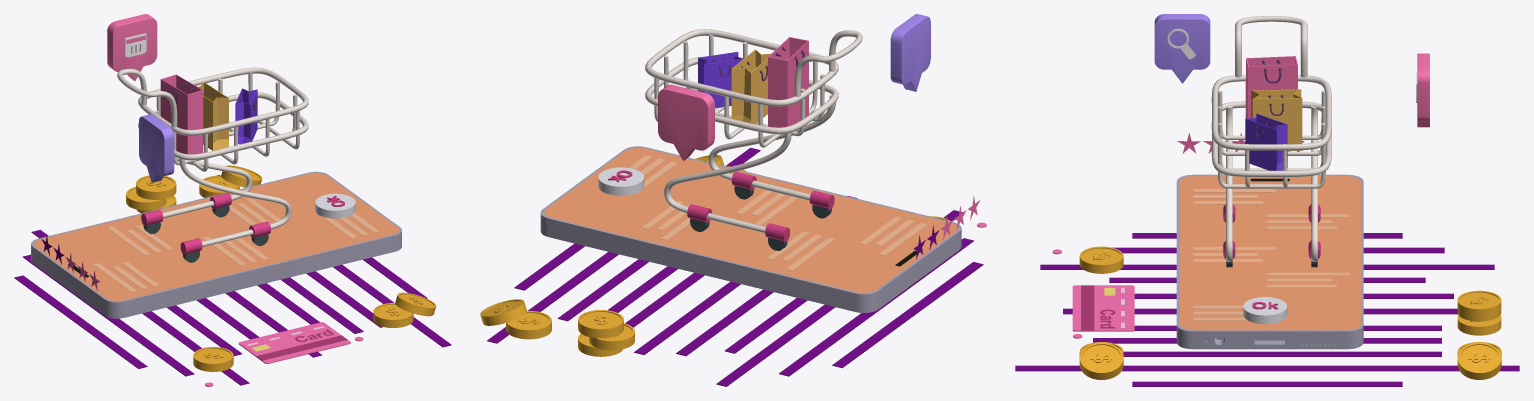
File: shopping.glb
3 views of the same model, side by side, from view 1: azimuth 30°, elevation 25°; view 2: azimuth 150°, elevation 25°; view 3: azimuth 270°, elevation 25° (orthographic). The views are drawn at different scales.
Parts seen in each view (by area): view 1: Cube, Plane.013, Plane.014, Cube.004, Plane.001, NurbsPath, Plane, BezierCircle.002, Cube.007, Cube.005, BezierCircle, Cube.006 (+14 smaller); view 2: Cube, Plane.013, Plane.014, Plane.001, NurbsPath, Cube.004, BezierCircle.002, Plane, Cube.005, BezierCircle, Cube.006, Cylinder.005 (+9 smaller); view 3: Cube, Plane.013, Plane.014, Plane, Cube.007, BezierCircle.002, Cube.005, Cube.004, NurbsPath, Cube.006, BezierCircle, Cylinder.008 (+10 smaller).
Boxes of the visible parts, x1,y1,x2,y2 form: Cube: (31,171,401,318); Plane.013: (14,175,451,385); Plane.014: (94,198,379,291); Cube.004: (160,74,203,160); Plane.001: (107,14,157,80); NurbsPath: (162,158,291,246); Plane: (139,114,174,182); BezierCircle.002: (138,67,308,135); Cube.007: (238,322,350,363); Cube.005: (197,82,228,150); BezierCircle: (138,92,308,160); Cube.006: (235,88,257,144); Cube: (540,146,961,312); Plane.013: (487,147,983,386); Plane.014: (629,155,927,270); Plane.001: (658,84,714,160); NurbsPath: (664,94,836,232); Cube.004: (768,37,808,134); BezierCircle.002: (645,29,838,106); Plane: (890,14,930,91); Cube.005: (731,49,770,124); BezierCircle: (645,56,838,134); Cube.006: (698,51,743,108); Cylinder.005: (578,310,623,338); Cube: (1176,174,1363,349); Plane.013: (1015,233,1519,386); Plane.014: (1193,189,1349,320); Plane: (1154,14,1210,83); Cube.007: (1072,285,1134,331); BezierCircle.002: (1211,75,1331,150); Cube.005: (1251,89,1302,151); Cube.004: (1246,56,1297,118); NurbsPath: (1226,105,1317,261); Cube.006: (1245,113,1287,170); BezierCircle: (1211,101,1331,177); Cylinder.008: (1457,342,1501,379).
Bounding box in the file's own units: 4.12 × 2.91 × 5.4.
